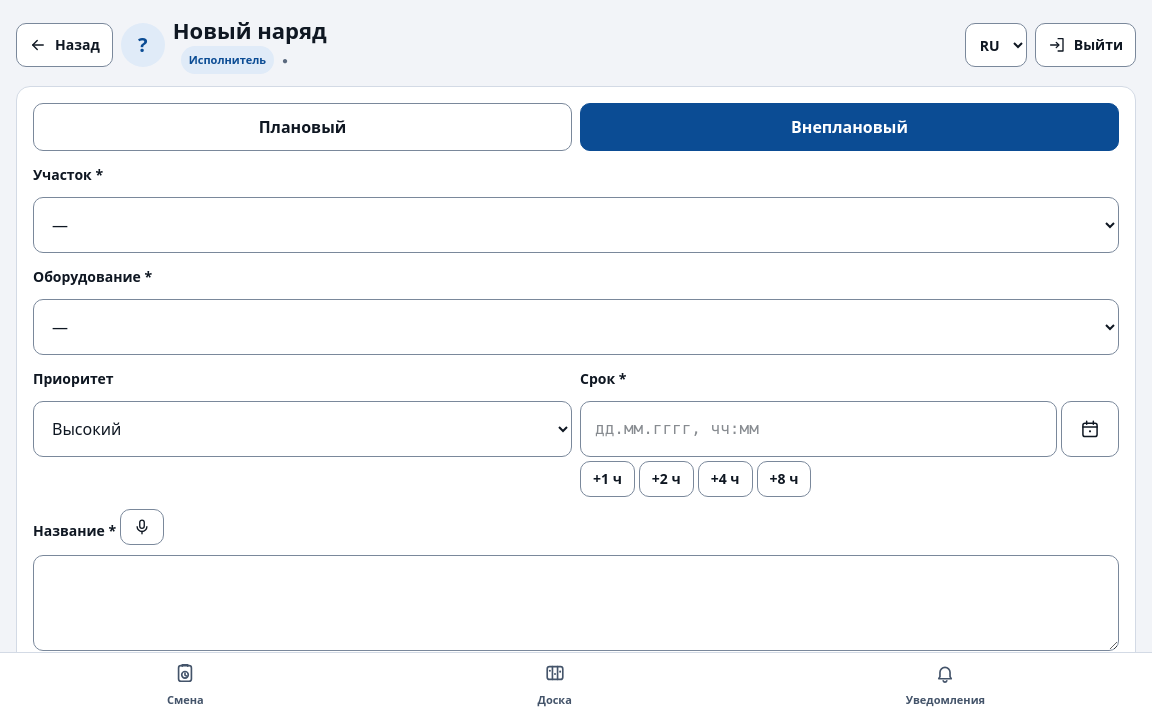
MasterNew kind and validation › shows backend error
The image size is (1152, 720).
Select "Участок 1" in the dropdown labelled "Участок *" at (576, 225), box [33,197,1119,253]
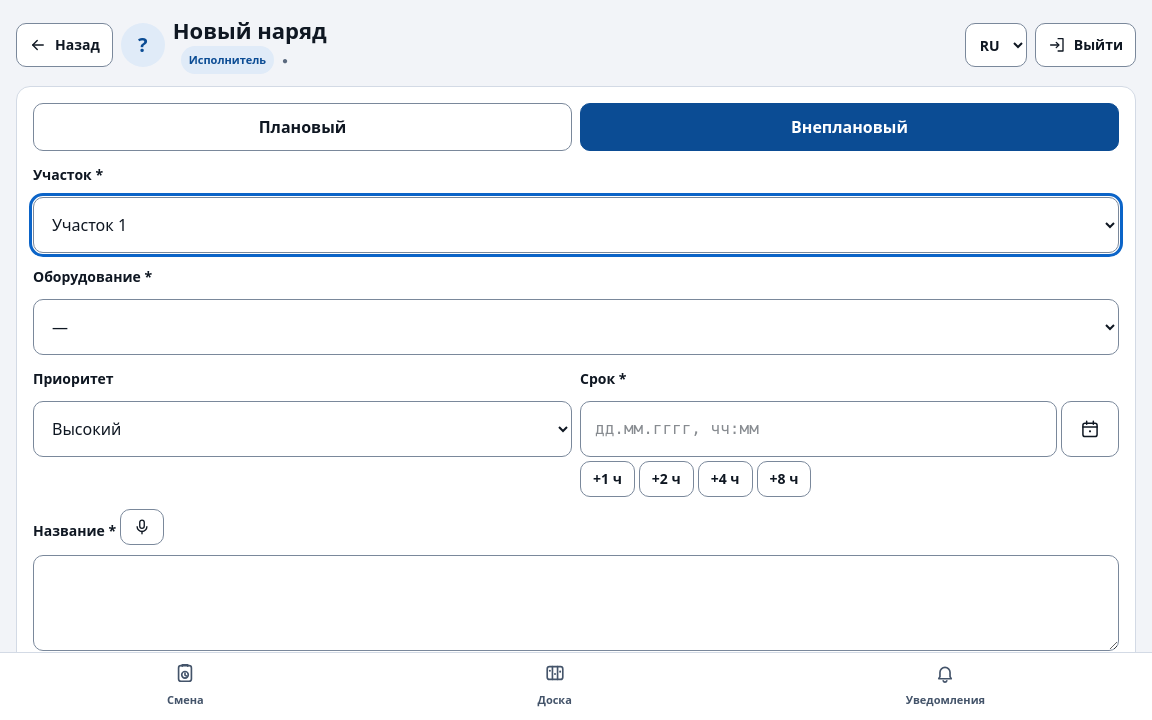
Select "Насос 1" in the dropdown labelled "Оборудование *" at (576, 327), box [33,299,1119,355]
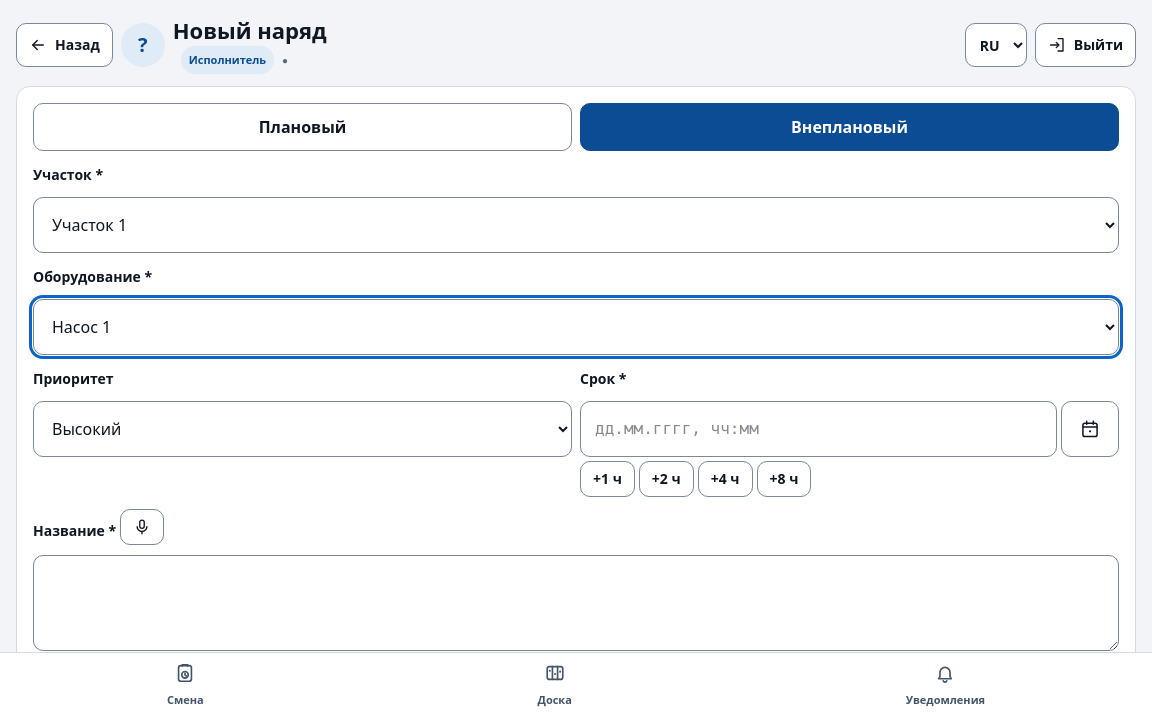
Type "12.10.2026, 09:05" into the field with placeholder "дд.мм.гггг, чч:мм" at (818, 429), box [580,401,1057,457]
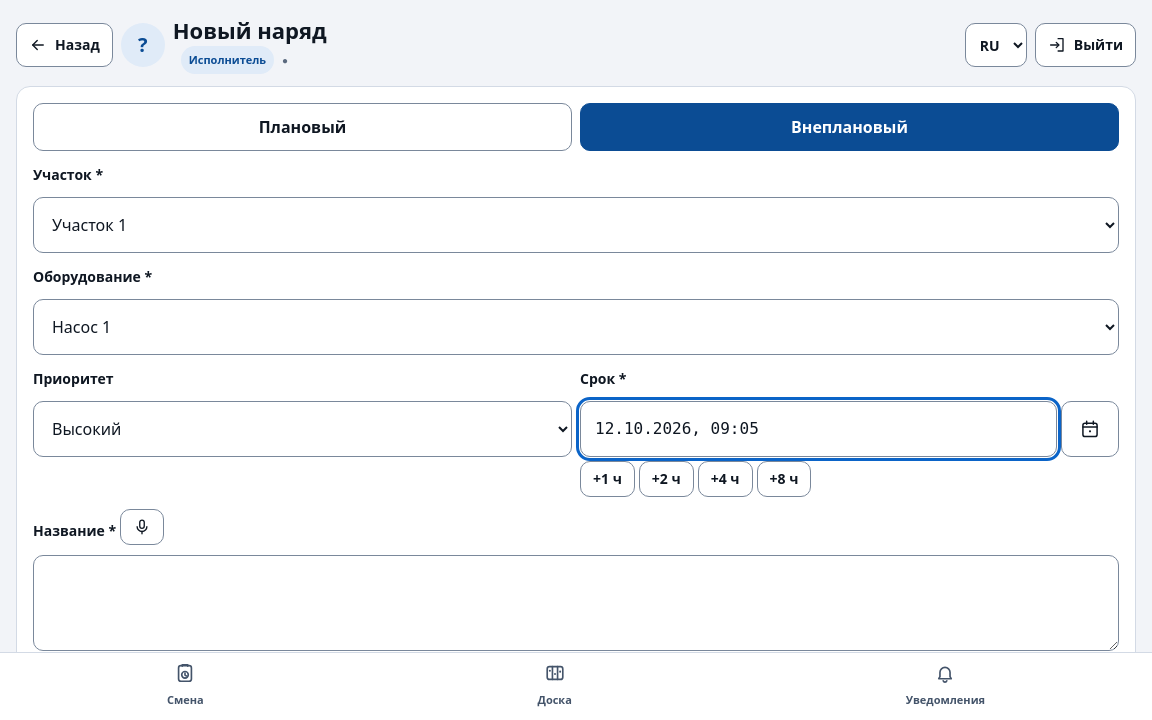
Type "Течь масла из редуктора" into the text box labelled "Название *" at (576, 603), box [33,555,1119,651]
(page scrolled)
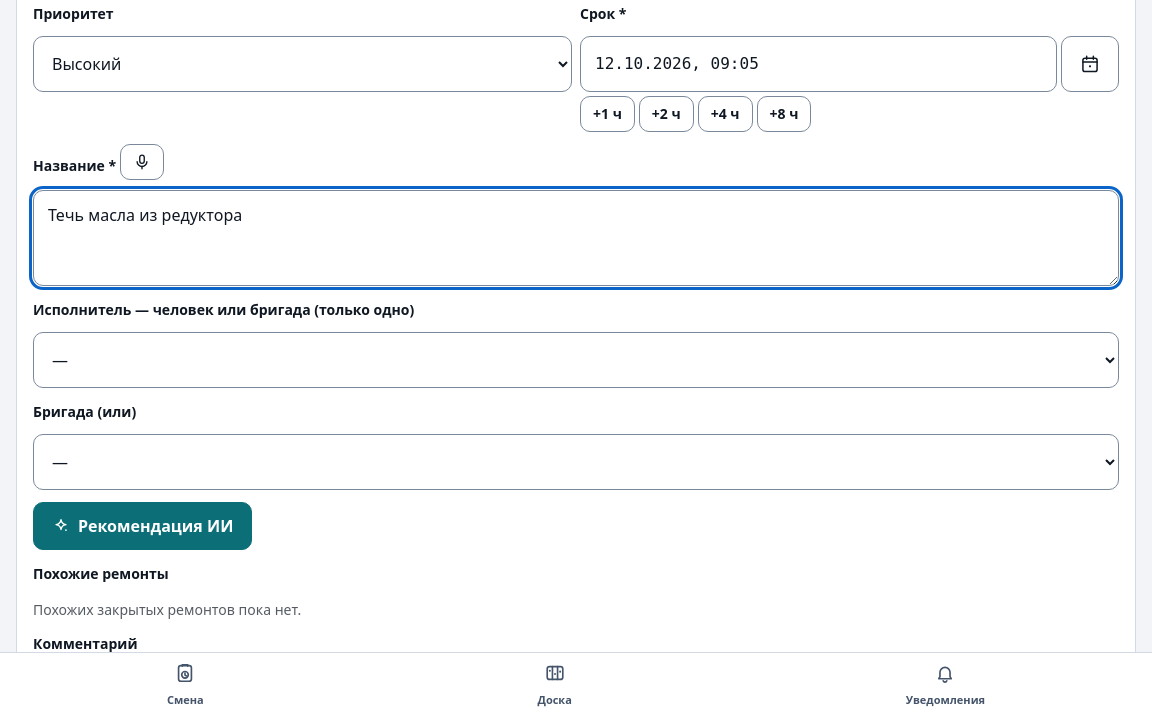
Select "Иван · Свободен" in the dropdown labelled "Исполнитель — человек или бригада (только одно)" at (576, 360), box [33,332,1119,388]
(page scrolled)
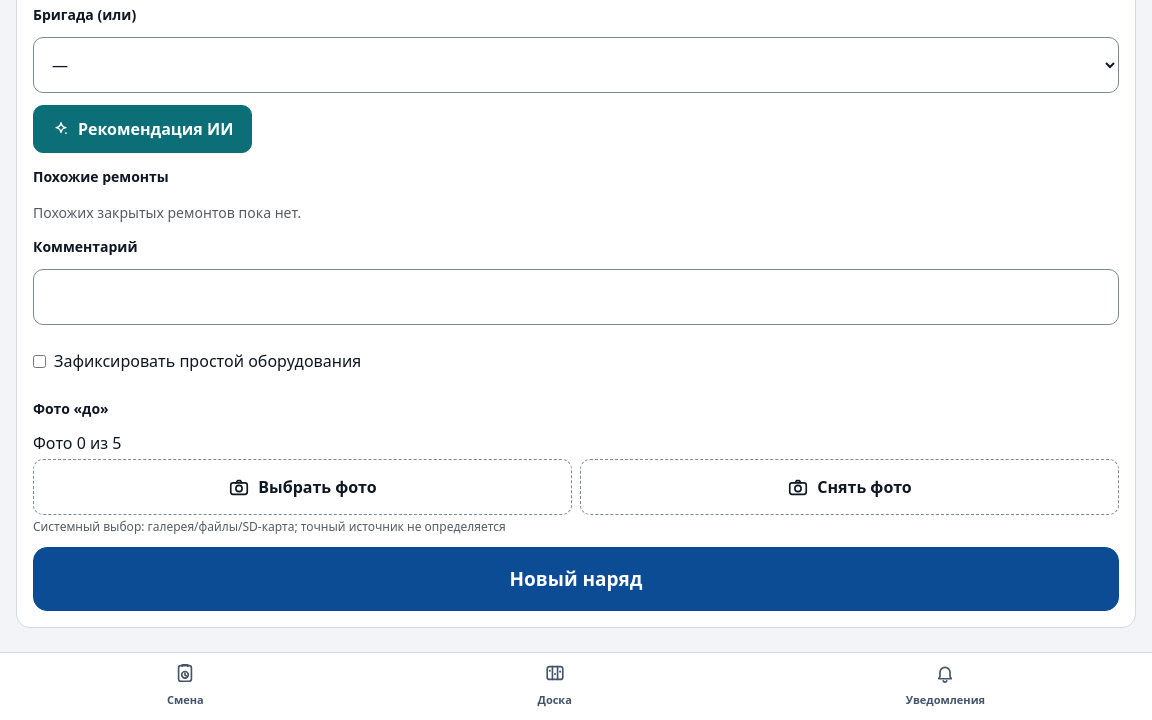
Click the button "Новый наряд" at (576, 579), box [33,547,1119,611]
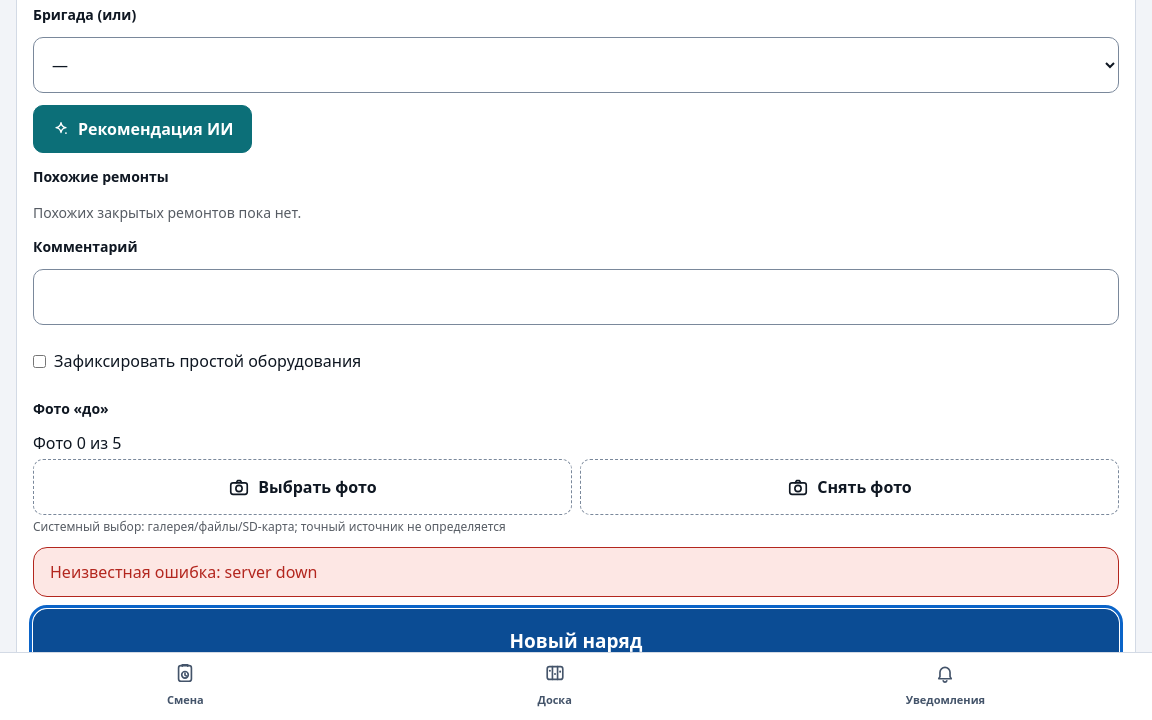
expect the message "Неизвестная ошибка: server down" is shown: met, box [33,547,1119,597]
